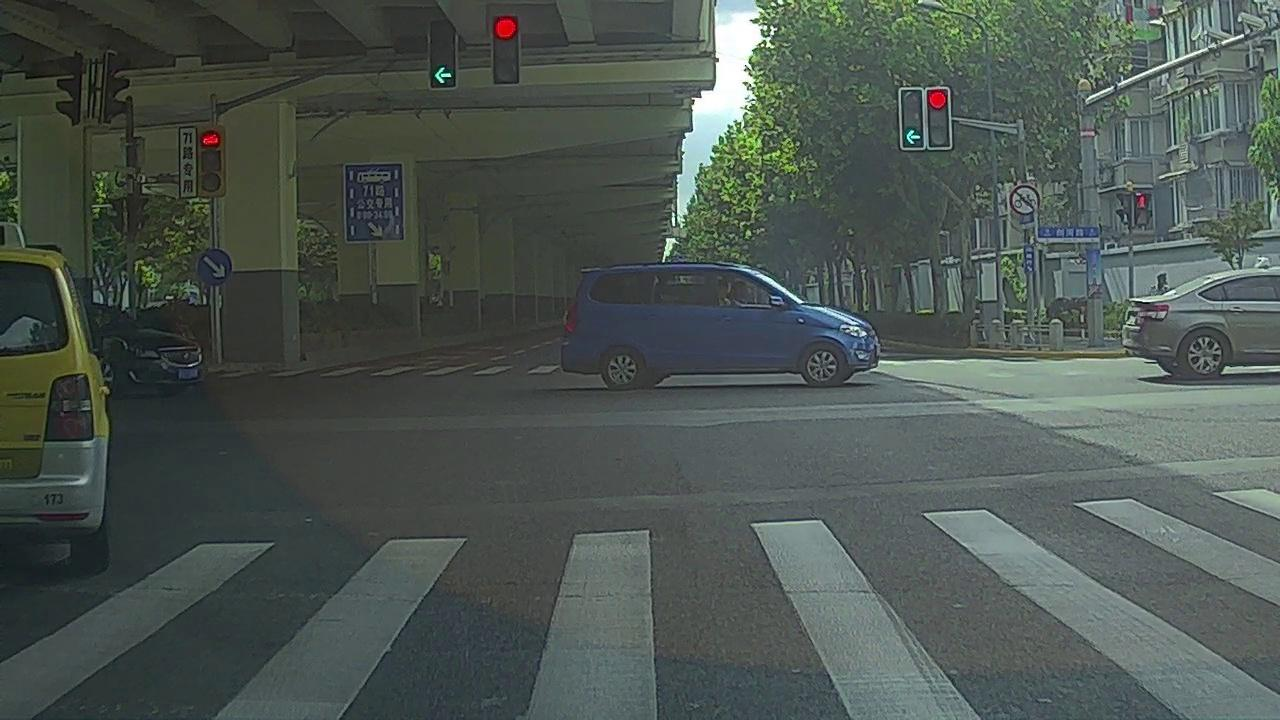traffic_light: (430, 22, 459, 86), (493, 19, 521, 84), (899, 86, 927, 151), (927, 85, 954, 150)
